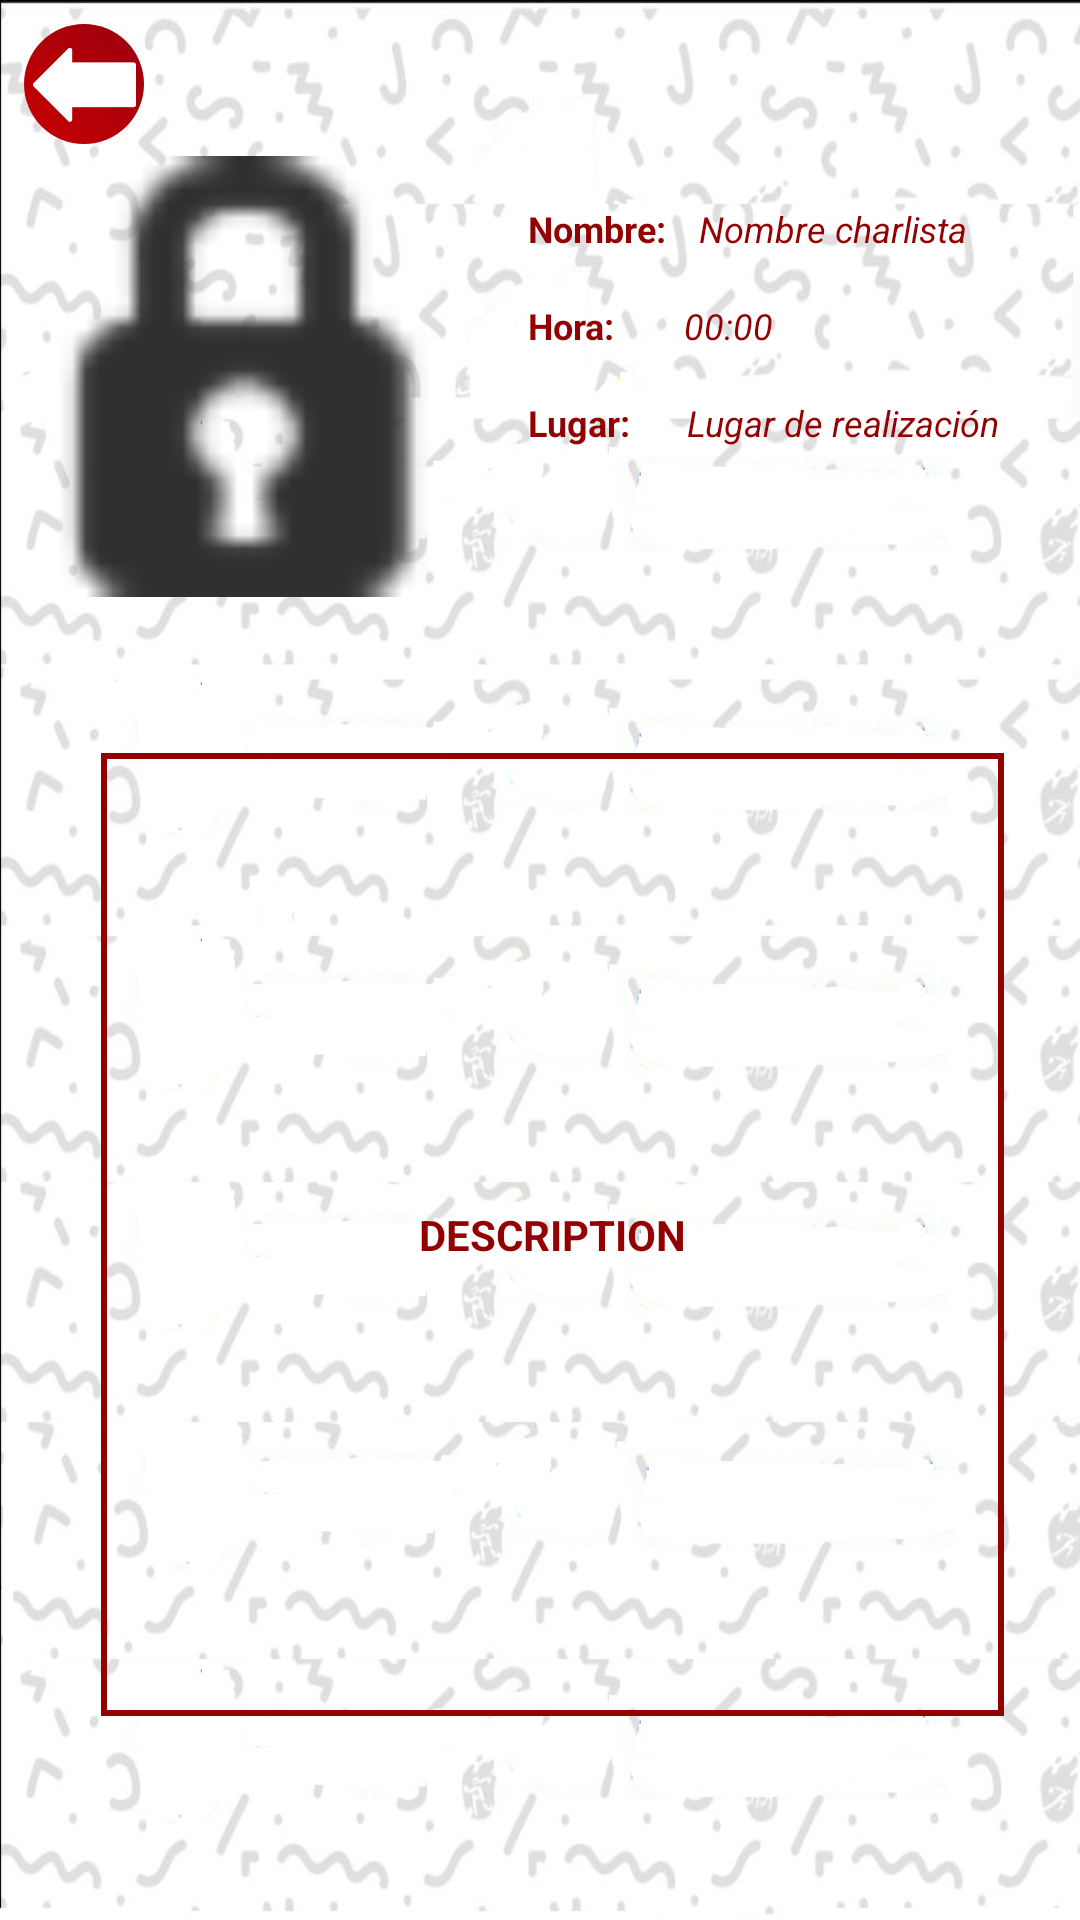

Where icons sit on this 1080 × 1920 app screen, as Rect(x1, y1, x2, y2):
back: Rect(24, 24, 144, 144)
